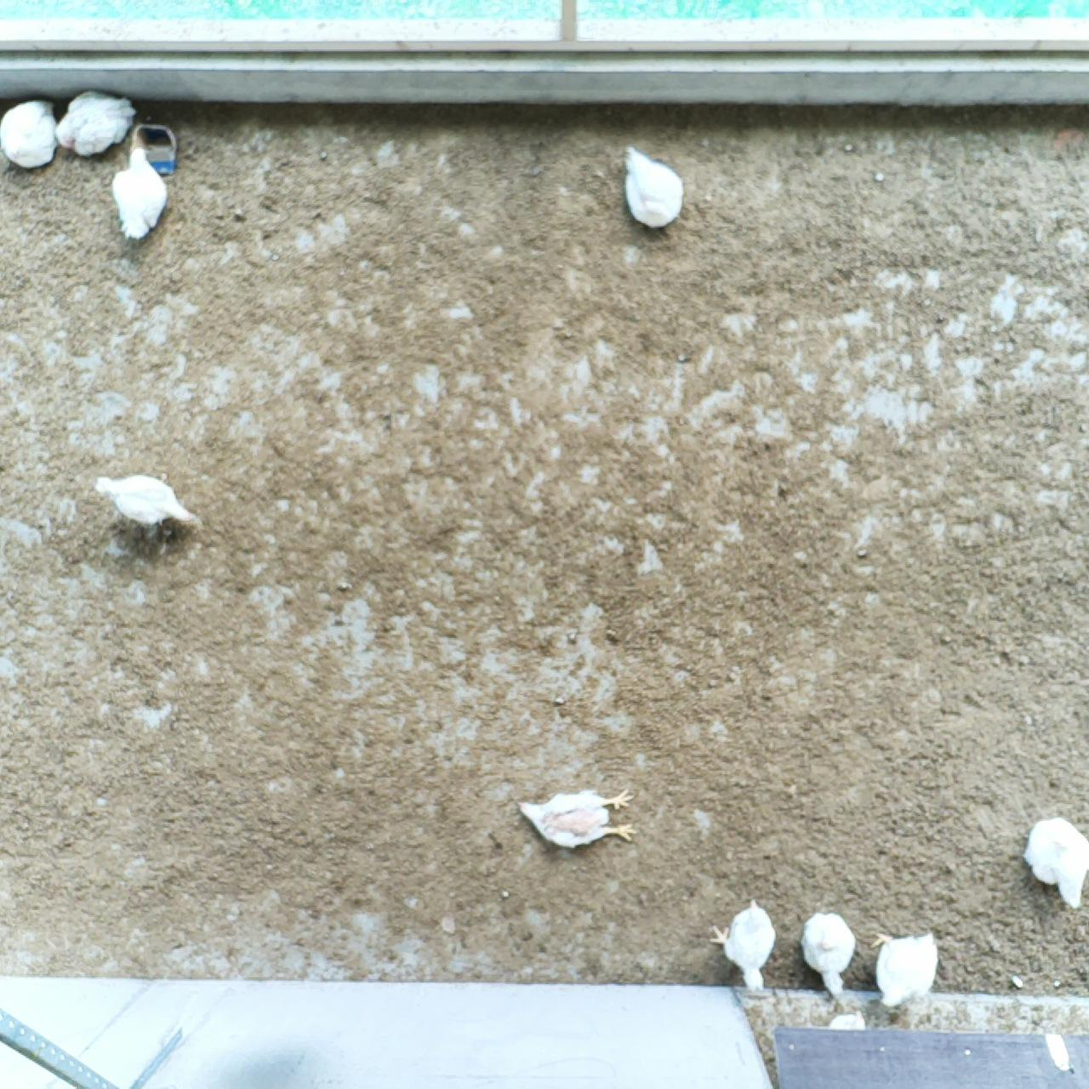chicken: (513, 783, 638, 859), (707, 891, 780, 998), (616, 138, 691, 238), (91, 464, 199, 530), (1019, 813, 1089, 912), (868, 926, 943, 1010), (111, 144, 172, 245), (796, 906, 859, 1002), (54, 85, 138, 157), (0, 96, 66, 171)
